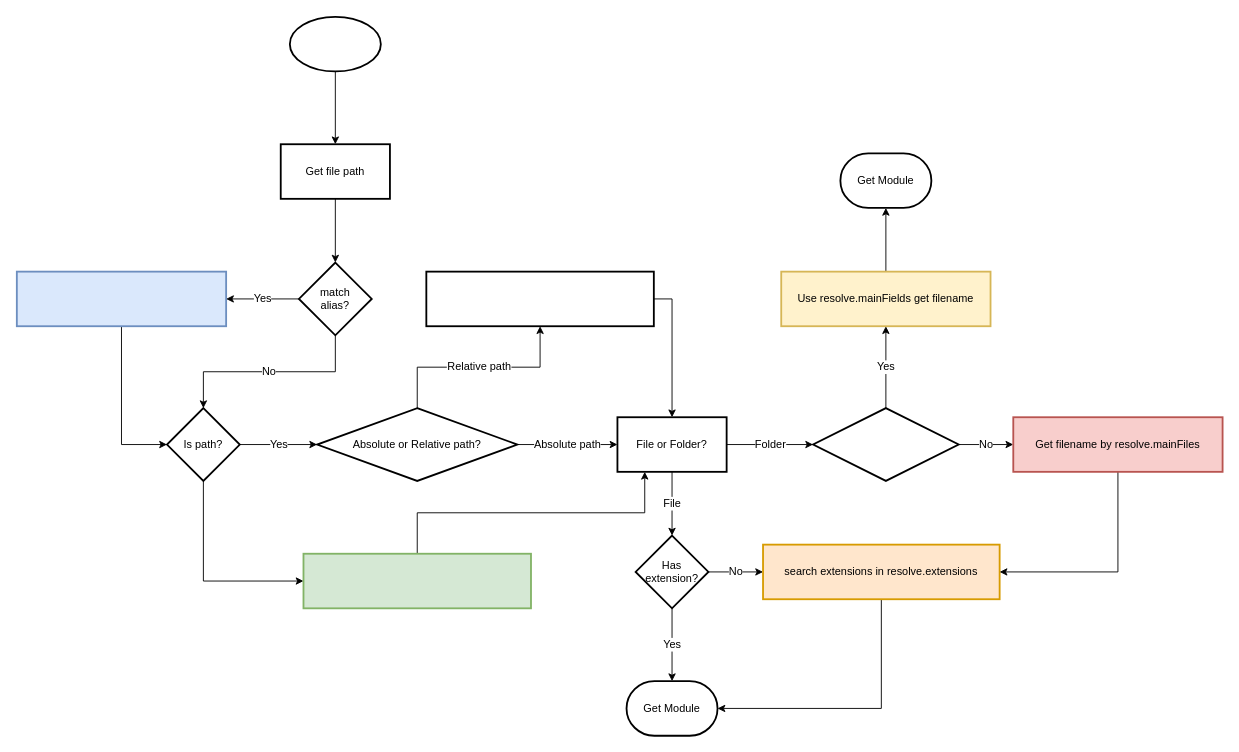
Image size: 1239x752. Some labels were removed from this diagram. The shapes that lost their labels are listed below. From the top down, each one's box as (x1, y1, x2, y2) in pixels, then its label:
(288, 15, 381, 72): Start Module Resolution
(15, 270, 227, 327): Replace resolve.alias to real value
(425, 270, 654, 327): Join current directory and relative path
(812, 407, 959, 481): Has package.json?
(302, 552, 531, 609): Search directories of resolve.modules
